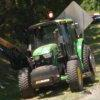Tractor: (17, 14, 100, 96)
